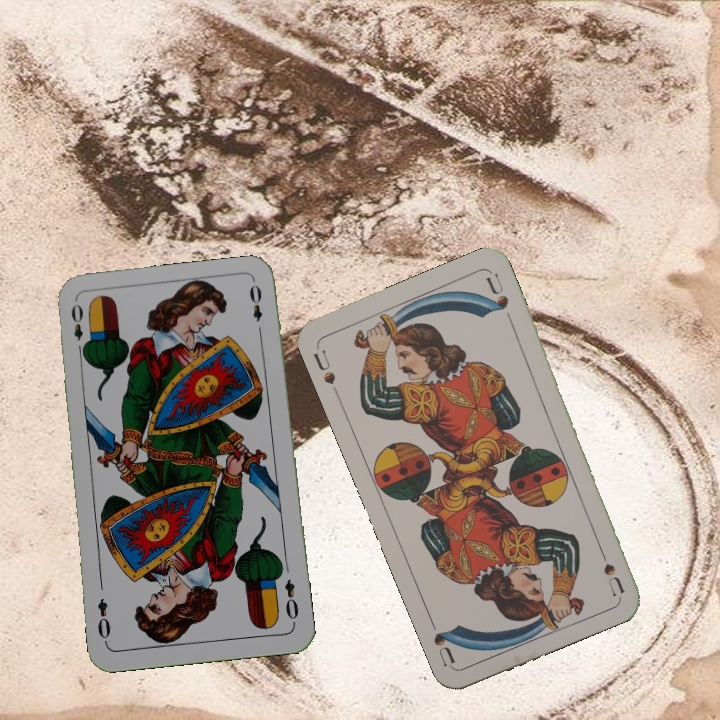EO: (67, 299, 90, 358), (281, 575, 301, 627)
SU: (593, 540, 627, 598), (309, 346, 338, 387)
